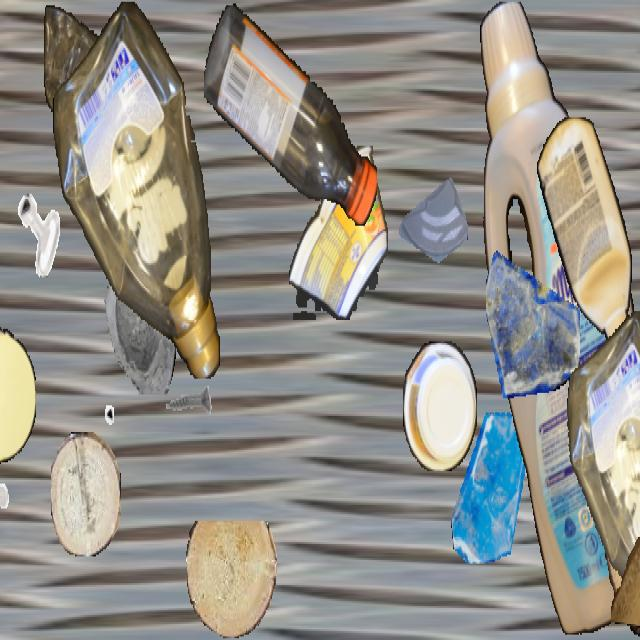glass: (486, 231, 580, 398), (89, 234, 179, 394), (449, 412, 533, 562), (399, 166, 467, 286)
metal: (161, 363, 213, 455), (64, 353, 114, 442), (601, 267, 640, 377), (15, 190, 63, 276), (0, 439, 15, 549)
plastic: (478, 2, 640, 634), (53, 1, 221, 378), (204, 2, 376, 229), (562, 311, 640, 638), (537, 117, 631, 345), (289, 146, 387, 320), (403, 342, 477, 469), (44, 2, 118, 126), (0, 325, 35, 464)
wood: (186, 521, 276, 638), (51, 432, 121, 556), (603, 450, 640, 638), (611, 471, 640, 638)
